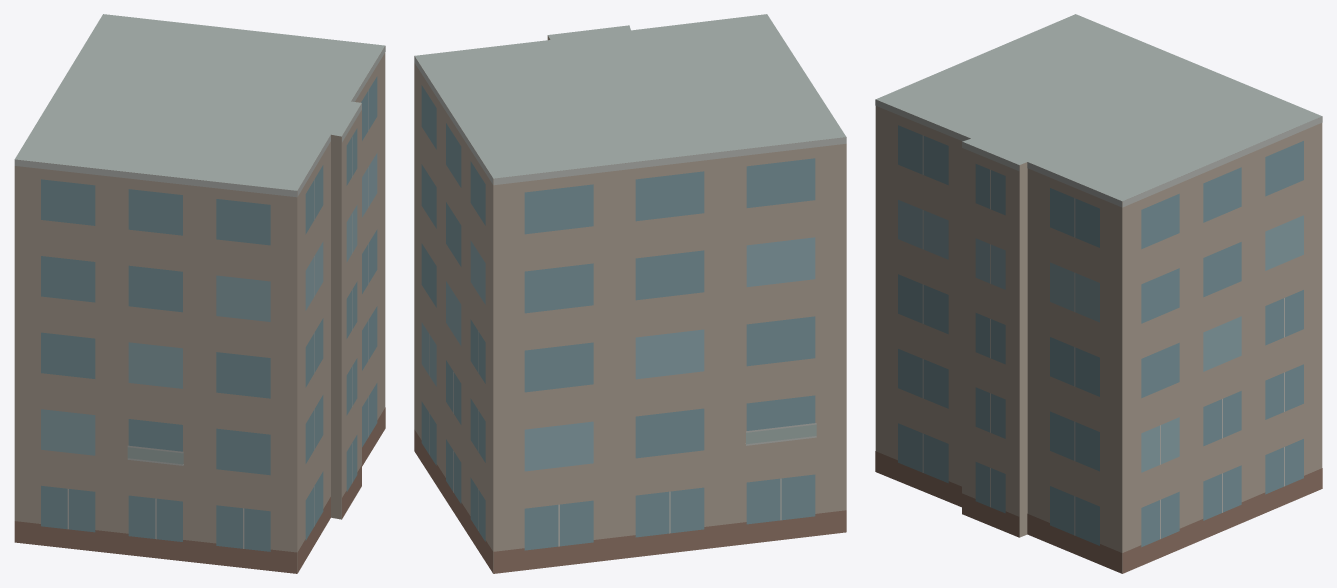
File: survey-upis-33001128.glb
The picture shows the model from 3 angles, left to right: view 1: azimuth 30°, elevation 25°; view 2: azimuth 150°, elevation 25°; view 3: azimuth 270°, elevation 25°; orthographic projection. The views are drawn at different scales.
Parts seen in each view (by area): view 1: survey-upis-33001128.tmp; view 2: survey-upis-33001128.tmp; view 3: survey-upis-33001128.tmp.
Boxes of the visible parts, x1,y1,x2,y2 form: survey-upis-33001128.tmp: (14, 14, 385, 573); survey-upis-33001128.tmp: (414, 14, 846, 573); survey-upis-33001128.tmp: (875, 14, 1322, 573).
Size of the model in its own units: 15.65 by 14.5 by 15.77.
